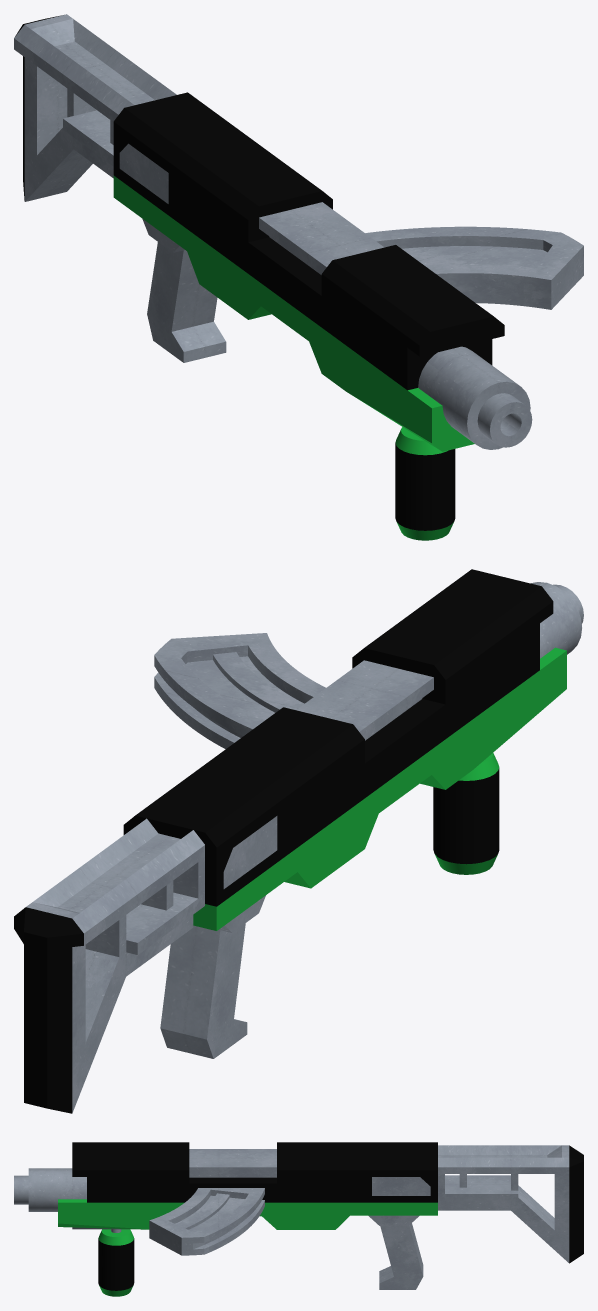
3 renders of one model, top to bottom at view 1: azimuth 30°, elevation 25°; view 2: azimuth 150°, elevation 25°; view 3: azimuth 270°, elevation 25°, orthographic. The views are drawn at different scales.
Parts seen in each view (by area): view 1: mergedBlocks; view 2: mergedBlocks; view 3: mergedBlocks.
Part boxes in pixels (left/top/right/bottom): mergedBlocks: left=14, top=14, right=583, bottom=540; mergedBlocks: left=14, top=569, right=583, bottom=1113; mergedBlocks: left=14, top=1142, right=583, bottom=1296.
Size of the model in its own units: 1.21 by 1.05 by 3.9.
